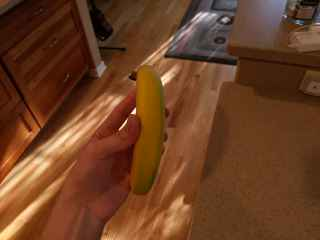banana: (125, 64, 166, 197)
